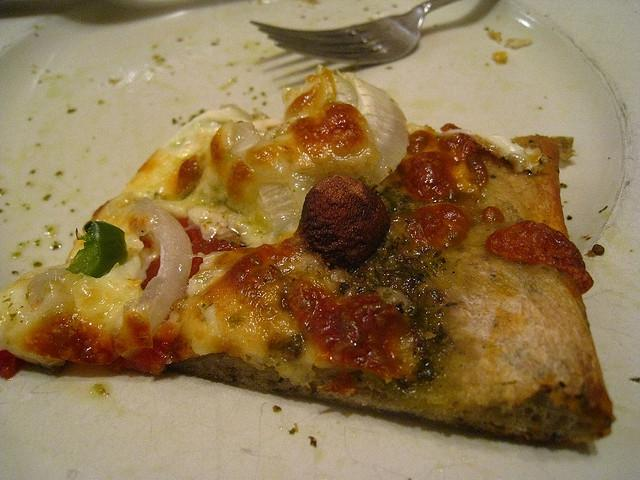onion: (313, 64, 410, 188), (122, 197, 194, 337), (229, 123, 300, 236), (436, 128, 548, 174), (332, 73, 359, 109)
